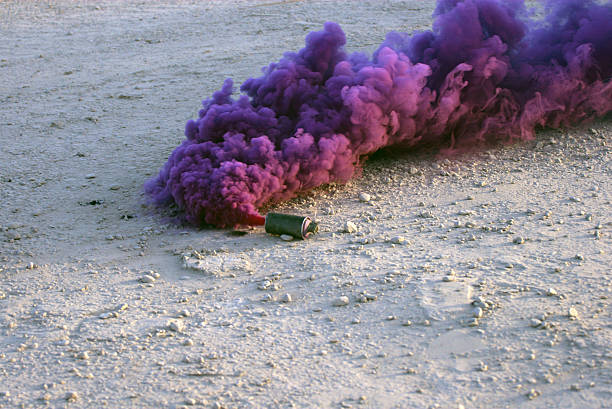e1: (264, 211, 321, 240)
